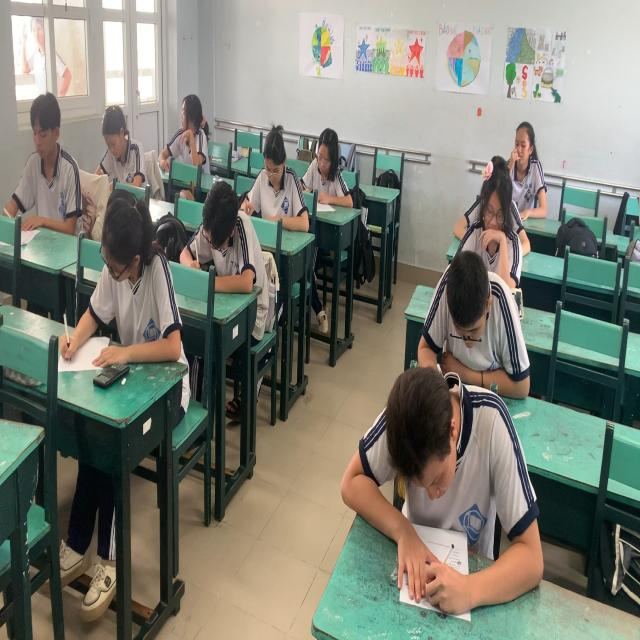not_cheating: (382, 350, 520, 578), (92, 189, 179, 376), (426, 250, 526, 368), (191, 160, 250, 298), (468, 171, 530, 288), (27, 90, 77, 228), (257, 111, 297, 247), (98, 90, 144, 196), (314, 117, 354, 235), (504, 109, 547, 210), (169, 88, 210, 187)
